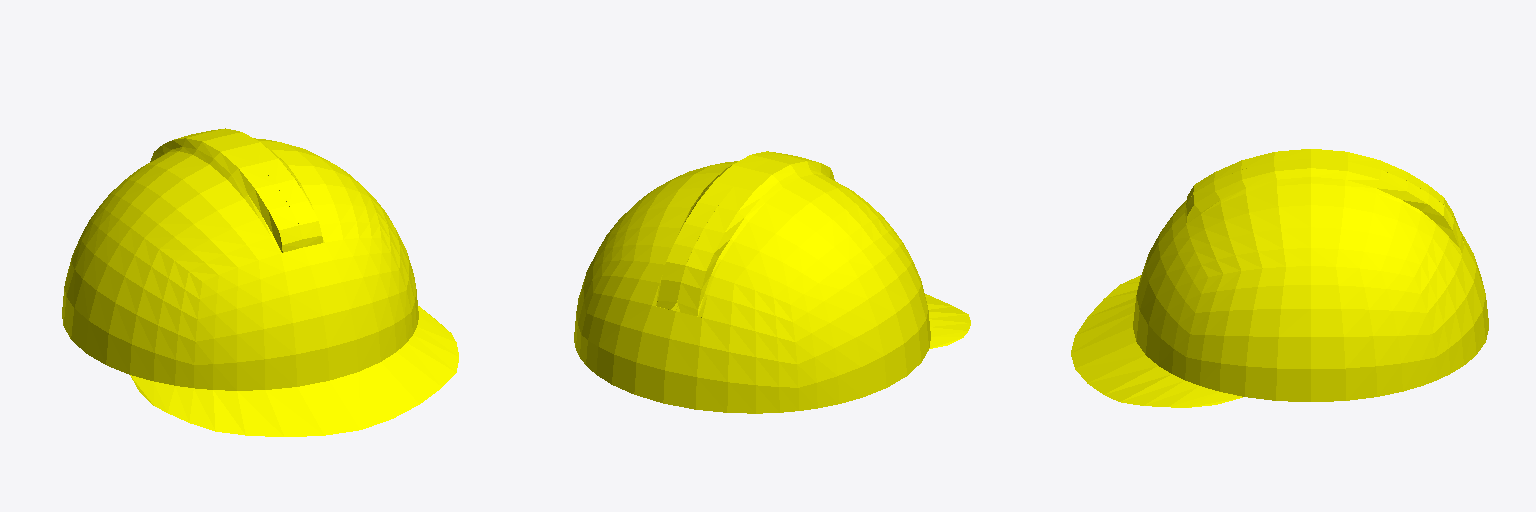
The model's file is HardHat.obj.
3 views of the same model, side by side, from view 1: azimuth 30°, elevation 25°; view 2: azimuth 150°, elevation 25°; view 3: azimuth 270°, elevation 25° (orthographic).
Visible parts, largest first — view 1: pCube1; view 2: pCube1; view 3: pCube1.
Boxes of the visible parts, box(x1,y1,x2,y2) form: pCube1: box(62, 128, 458, 436); pCube1: box(574, 151, 970, 413); pCube1: box(1071, 149, 1488, 407).
Bounding box in the file's own units: 2.21 × 1.33 × 2.58.